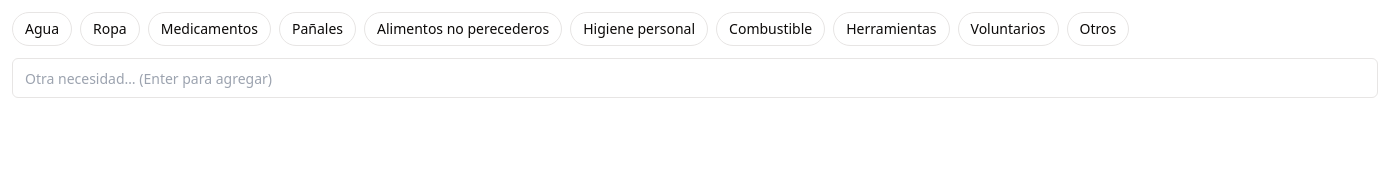
Test: NecesidadesSelector › adds a custom necesidad via the free-text input (Enter)
In the field with placeholder "Otra necesidad… (Enter para agregar)": (695, 78) [12,58,1378,98], type "Velas"
Then press Enter
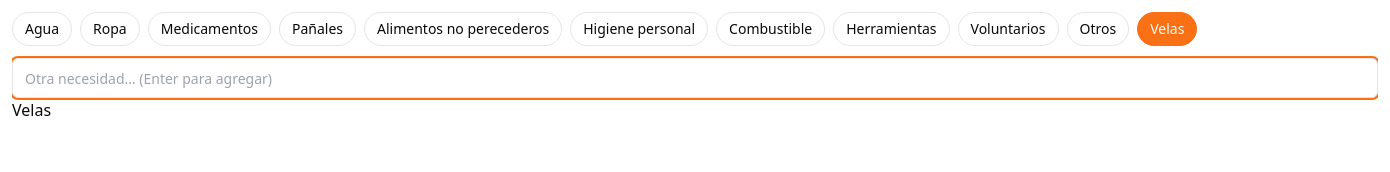
Expected: the text with test id "out" reads "Velas", [12,99,51,121]
